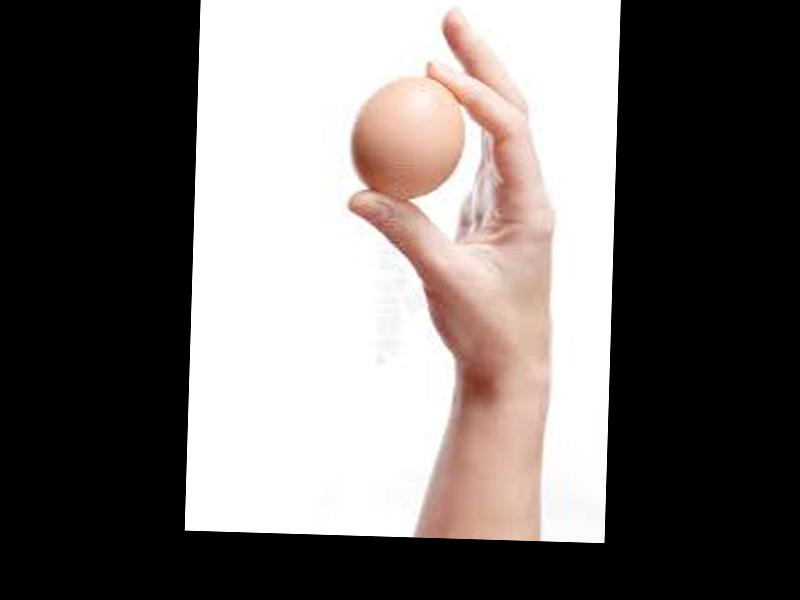Eggs: (350, 75, 464, 203)
